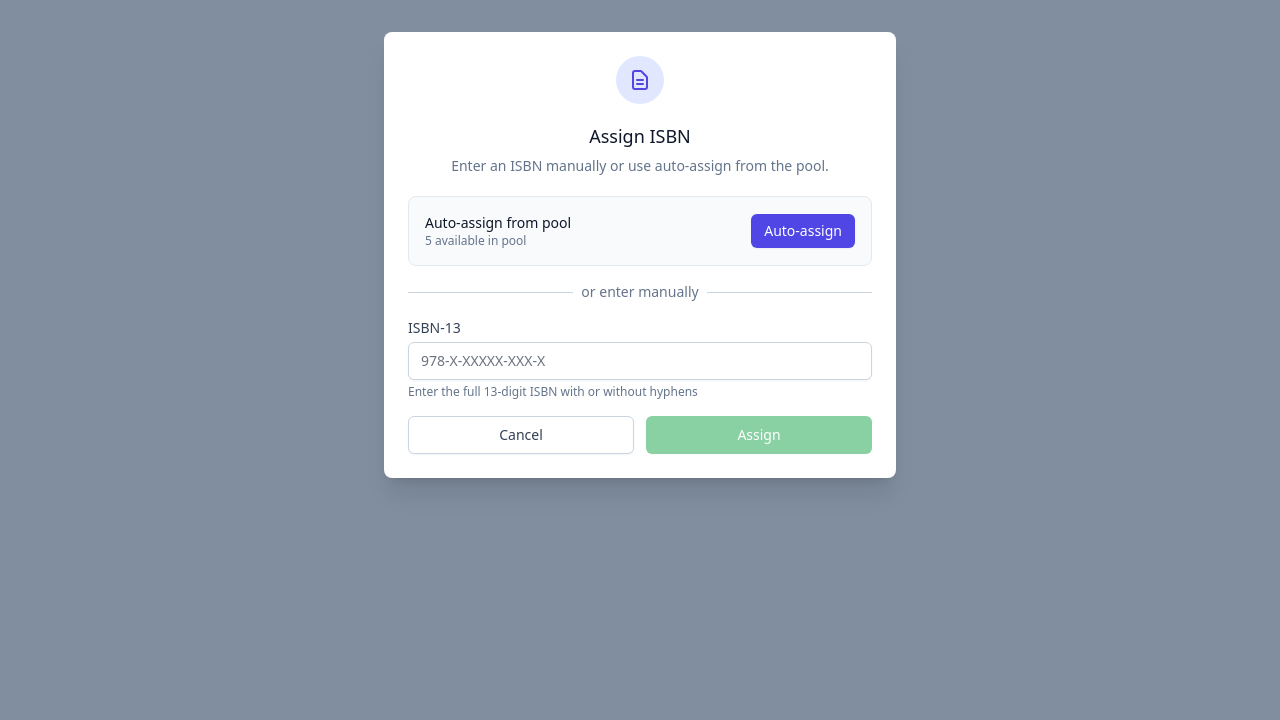
Scenario: ISBNAssignmentModal › displays error when auto-assign fails
This screenshot has width=1280, height=720.
Step 1. Click the button "Auto-assign" → [803, 231], box x1=751 y1=214 x2=855 y2=248
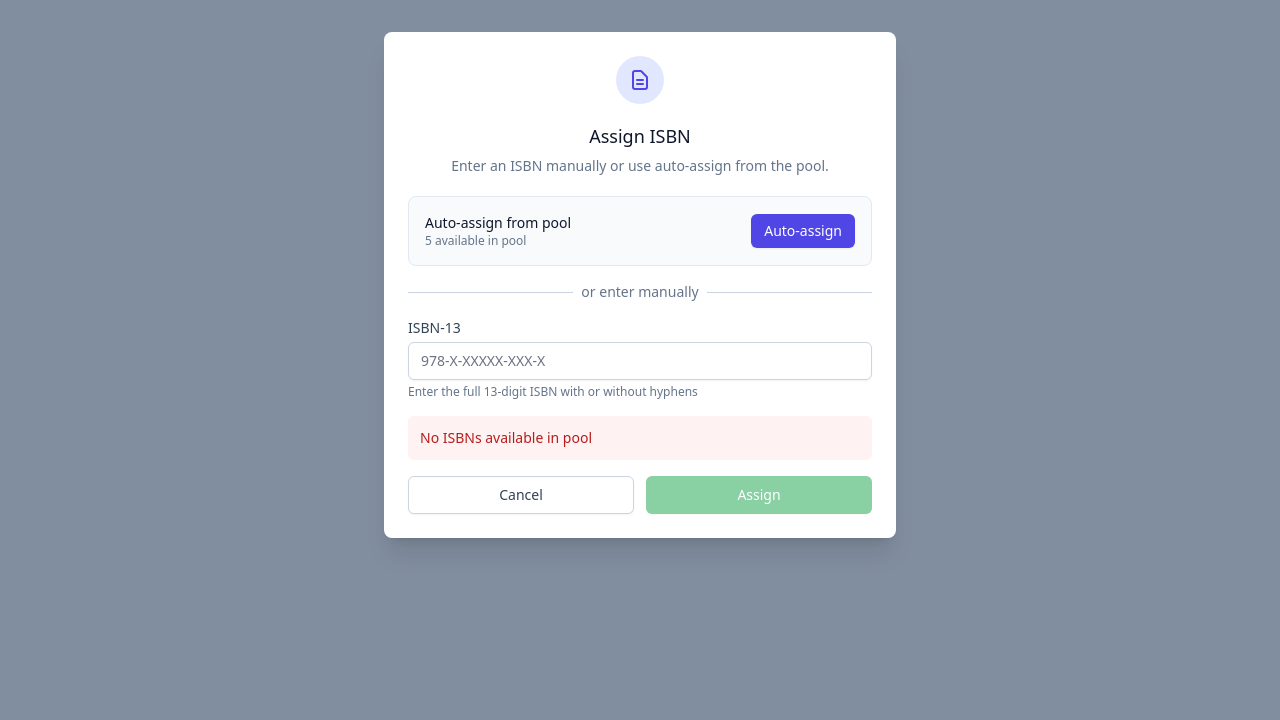
Now the text "No ISBNs available in pool" is shown, box x1=420 y1=428 x2=592 y2=447
